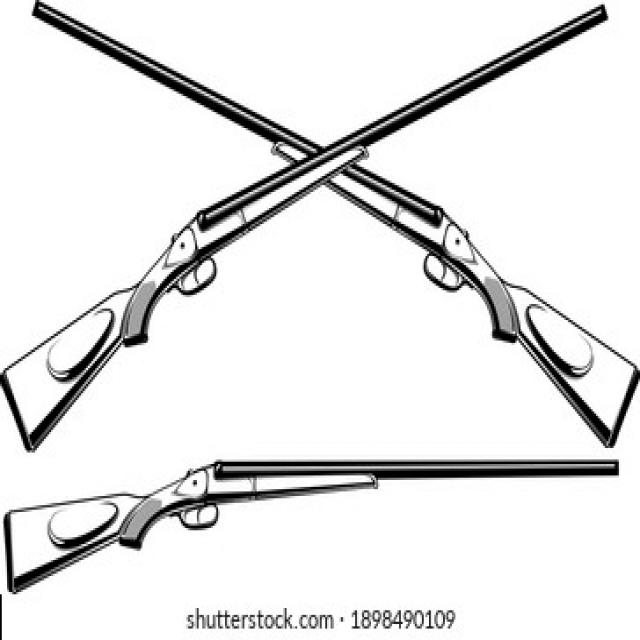shotgun: (0, 440, 629, 608)
